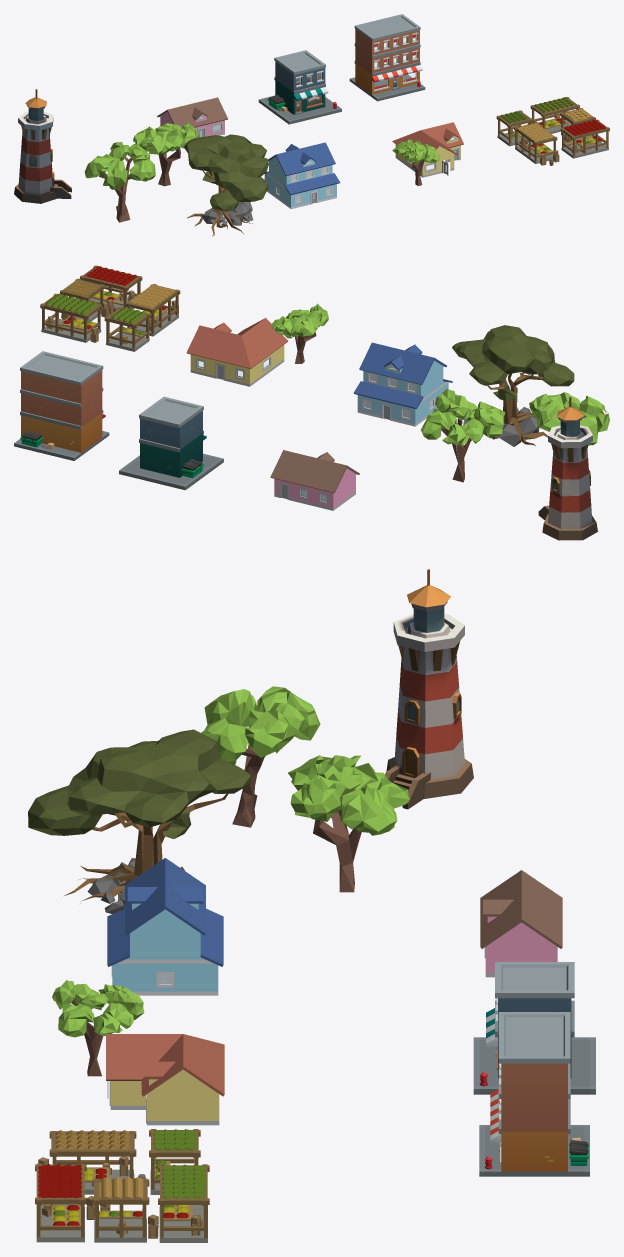
Rendered from scene6structures.glb.
The picture shows the model from 3 angles, top to bottom: view 1: azimuth 30°, elevation 25°; view 2: azimuth 150°, elevation 25°; view 3: azimuth 270°, elevation 25°; orthographic projection. The views are drawn at different scales.
Parts seen in each view (by area): view 1: Mball.017_Mesh, building_E, Market_SecondAge_Level3, building_A, house_type06, lighthouse_Icosphere.029, Node.001, Node, house_type05, house_type07.001, Node.002; view 2: building_E, Market_SecondAge_Level3, Mball.017_Mesh, building_A, house_type06, lighthouse_Icosphere.029, house_type05, house_type07.001, Node, Node.001, Node.002; view 3: Market_SecondAge_Level3, Mball.017_Mesh, building_E, lighthouse_Icosphere.029, house_type06, house_type05, Node, building_A, Node.001, house_type07.001, Node.002.
Boxes of the visible parts, bbox=[...] form: Mball.017_Mesh: bbox=[184, 134, 268, 236]; building_E: bbox=[349, 14, 425, 101]; Market_SecondAge_Level3: bbox=[496, 97, 609, 165]; building_A: bbox=[258, 50, 341, 124]; house_type06: bbox=[264, 142, 340, 209]; lighthouse_Icosphere.029: bbox=[14, 89, 71, 203]; Node.001: bbox=[84, 142, 155, 222]; Node: bbox=[133, 122, 199, 186]; house_type05: bbox=[392, 122, 463, 177]; house_type07.001: bbox=[157, 97, 227, 137]; Node.002: bbox=[392, 139, 439, 185]; building_E: bbox=[14, 351, 109, 460]; Market_SecondAge_Level3: bbox=[40, 265, 180, 351]; Mball.017_Mesh: bbox=[452, 325, 574, 446]; building_A: bbox=[119, 396, 223, 490]; house_type06: bbox=[353, 342, 452, 426]; lighthouse_Icosphere.029: bbox=[538, 396, 597, 540]; house_type05: bbox=[186, 318, 287, 386]; house_type07.001: bbox=[270, 450, 359, 510]; Node: bbox=[421, 388, 505, 482]; Node.001: bbox=[529, 392, 609, 445]; Node.002: bbox=[271, 303, 328, 363]; Market_SecondAge_Level3: bbox=[35, 1129, 209, 1242]; Mball.017_Mesh: bbox=[28, 729, 251, 913]; building_E: bbox=[479, 1012, 589, 1176]; lighthouse_Icosphere.029: bbox=[385, 569, 473, 809]; house_type06: bbox=[107, 858, 223, 995]; house_type05: bbox=[106, 1034, 224, 1125]; Node: bbox=[288, 755, 409, 892]; building_A: bbox=[473, 962, 595, 1094]; Node.001: bbox=[201, 686, 320, 827]; house_type07.001: bbox=[480, 870, 562, 977]; Node.002: bbox=[52, 980, 144, 1076].
Bounding box in the file's own units: 90.6 × 20.23 × 45.04.
32 materials, 3 textured.
